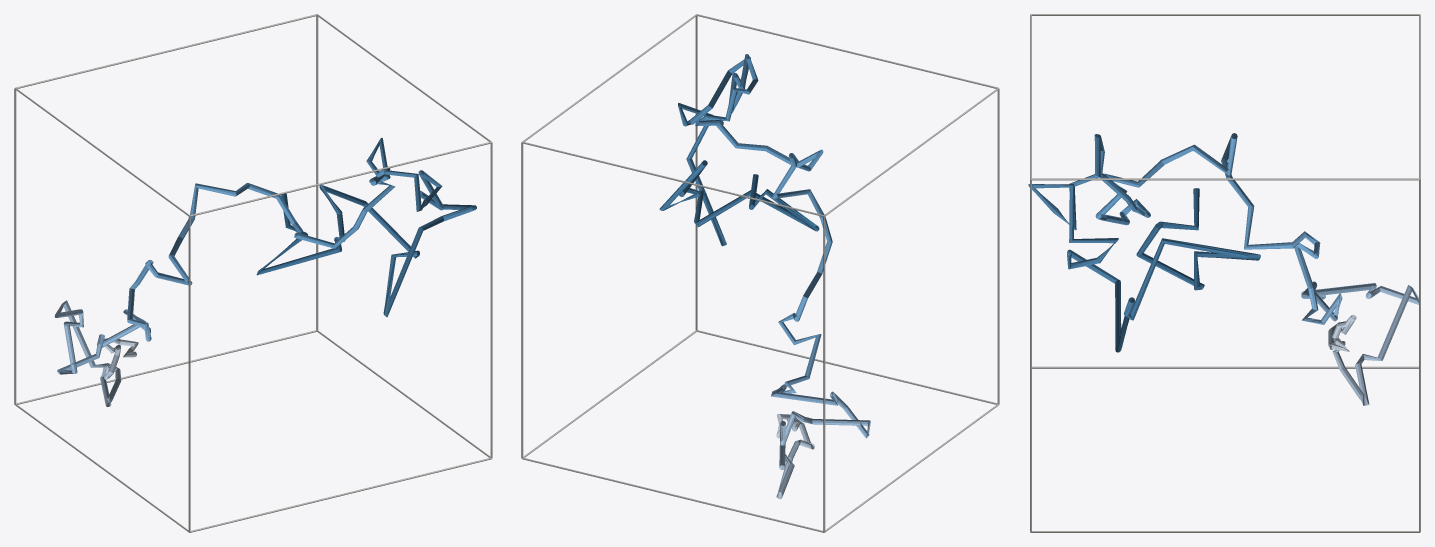
3 renders of one model, left to right at view 1: azimuth 30°, elevation 25°; view 2: azimuth 150°, elevation 25°; view 3: azimuth 270°, elevation 25°, orthographic. The views are drawn at different scales.
Visible parts, largest first — view 1: geometry_0, geometry_1; view 2: geometry_0, geometry_1; view 3: geometry_0, geometry_1.
Part boxes in pixels (<box>): geometry_0: <box>54,138,476,406</box>; geometry_1: <box>14,14,492,532</box>; geometry_0: <box>659,54,870,499</box>; geometry_1: <box>521,14,999,532</box>; geometry_0: <box>1028,133,1418,405</box>; geometry_1: <box>1030,14,1420,532</box>.
Size of the model in its own units: 0.303 by 0.3028 by 0.303.
